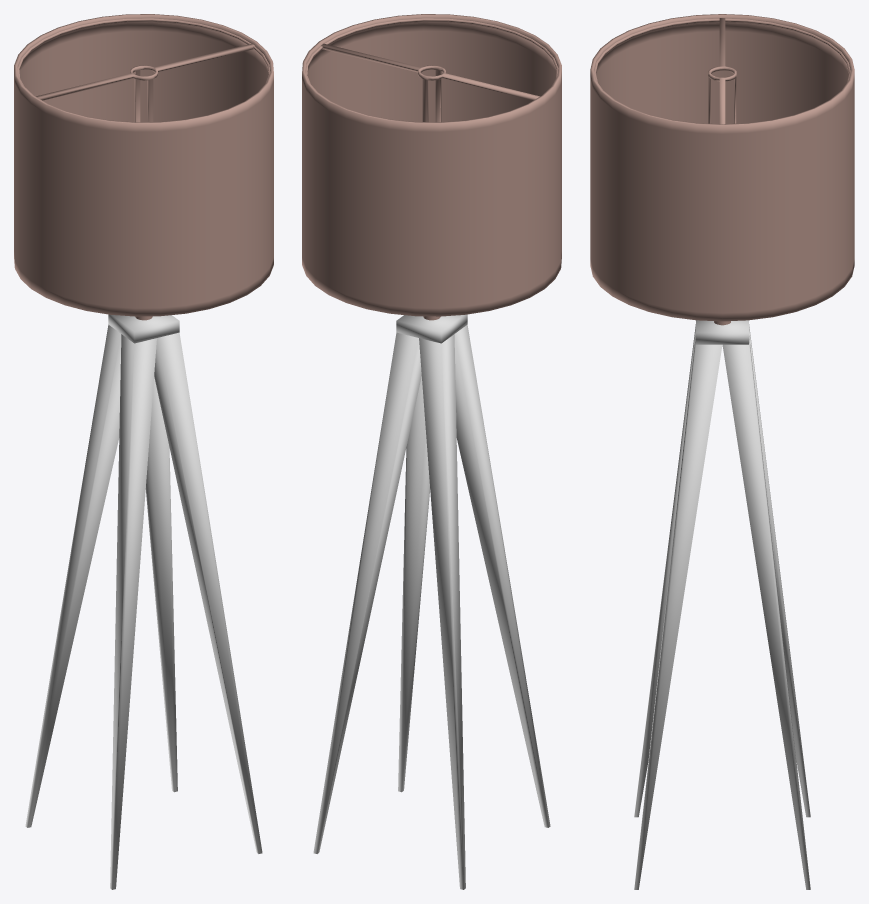
File: lamp.dae
3 views of the same model, side by side, from view 1: azimuth 30°, elevation 25°; view 2: azimuth 150°, elevation 25°; view 3: azimuth 270°, elevation 25° (orthographic).
Visible parts, largest first — view 1: Lamp; view 2: Lamp; view 3: Lamp.
Part boxes in pixels (bbox=[...]): Lamp: bbox=[14, 14, 273, 889]; Lamp: bbox=[302, 14, 561, 889]; Lamp: bbox=[590, 14, 854, 889].
Size of the model in its own units: 0.6 by 0.6 by 1.96.
